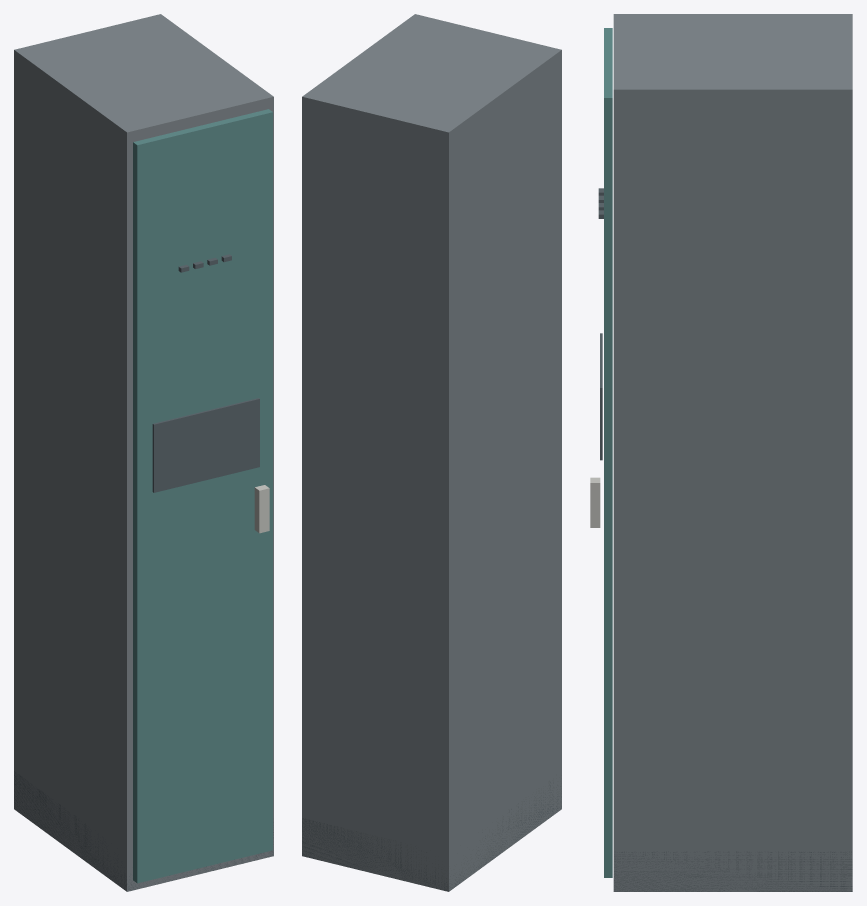
Rendered from COR-005.glb.
The picture shows the model from 3 angles, left to right: view 1: azimuth 30°, elevation 25°; view 2: azimuth 150°, elevation 25°; view 3: azimuth 270°, elevation 25°; orthographic projection. The views are drawn at different scales.
Parts seen in each view (by area): view 1: 000_Cabinet_housing, 001_Door_panel, 002_Door_inset, 008_Lower_plinth, 003_Handle; view 2: 000_Cabinet_housing, 008_Lower_plinth; view 3: 000_Cabinet_housing, 001_Door_panel, 008_Lower_plinth, 003_Handle.
Boxes of the visible parts, left/top/right/bottom form: 000_Cabinet_housing: left=14, top=14, right=273, bottom=891; 001_Door_panel: left=133, top=109, right=272, bottom=883; 002_Door_inset: left=152, top=398, right=259, bottom=492; 008_Lower_plinth: left=14, top=771, right=273, bottom=891; 003_Handle: left=254, top=485, right=269, bottom=533; 000_Cabinet_housing: left=302, top=14, right=561, bottom=891; 008_Lower_plinth: left=302, top=781, right=561, bottom=891; 000_Cabinet_housing: left=613, top=14, right=852, bottom=891; 001_Door_panel: left=604, top=28, right=612, bottom=877; 008_Lower_plinth: left=613, top=851, right=852, bottom=891; 003_Handle: left=590, top=477, right=600, bottom=527.
Size of the model in its own units: 0.36 by 1.78 by 0.527.
